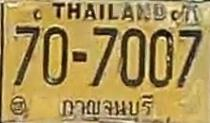0: (119, 28, 145, 86), (42, 26, 67, 85), (148, 28, 173, 87)
7: (90, 26, 118, 86), (13, 25, 40, 85), (176, 28, 202, 88)
KRI: (62, 92, 153, 120)
